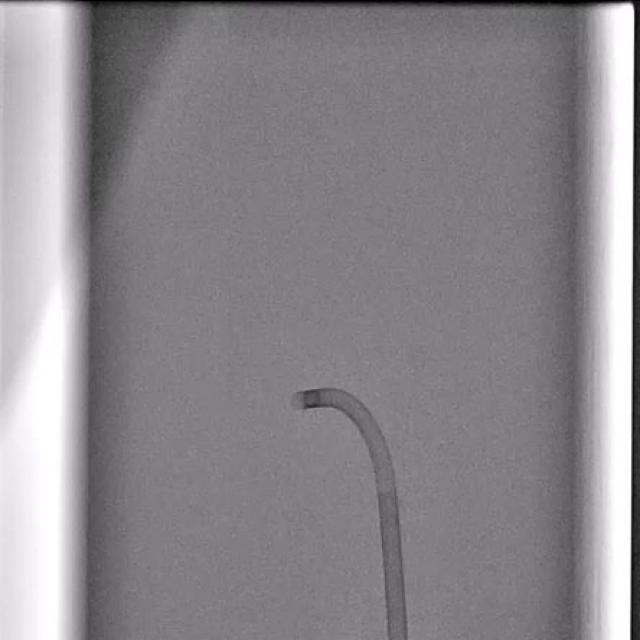bend: (376, 482, 397, 494)
entry: (387, 635, 409, 640)
marker: (305, 390, 322, 406)
tip: (292, 392, 302, 407)
